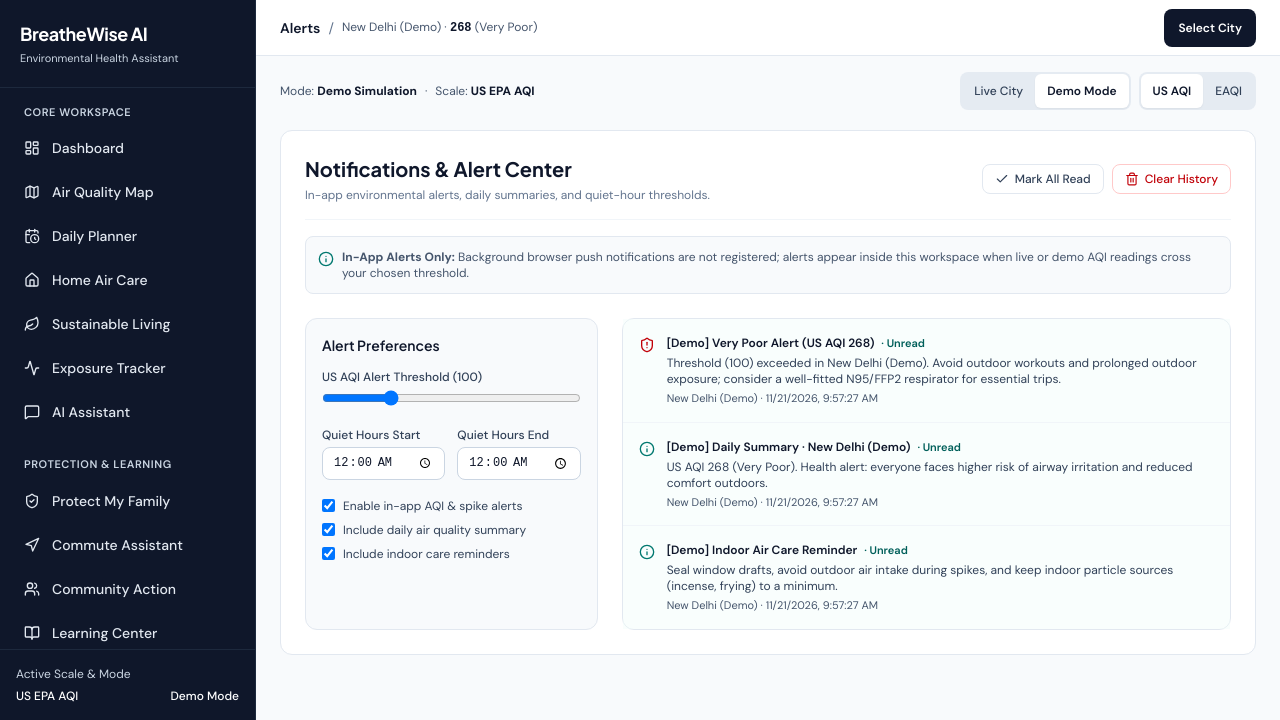
BreatheWise AI Advanced Workflows: Live Gemini, Loading/Error Recovery, Notifications & Export › handles Notifications quiet hours, severe override (AQI > 200), Mark All Read, and Clear History
This screenshot has width=1280, height=720.
Earlier steps of the test are not shown.
Expected: the heading "Notifications & Alert Center" is shown, [305,156,572,181]
Expected: the text "· Unread" next to "[Demo] Very Poor Alert (US AQI 268)" is shown, [881,336,925,350]
Click the button "Mark All Read": (1043, 179) [982,164,1104,194]
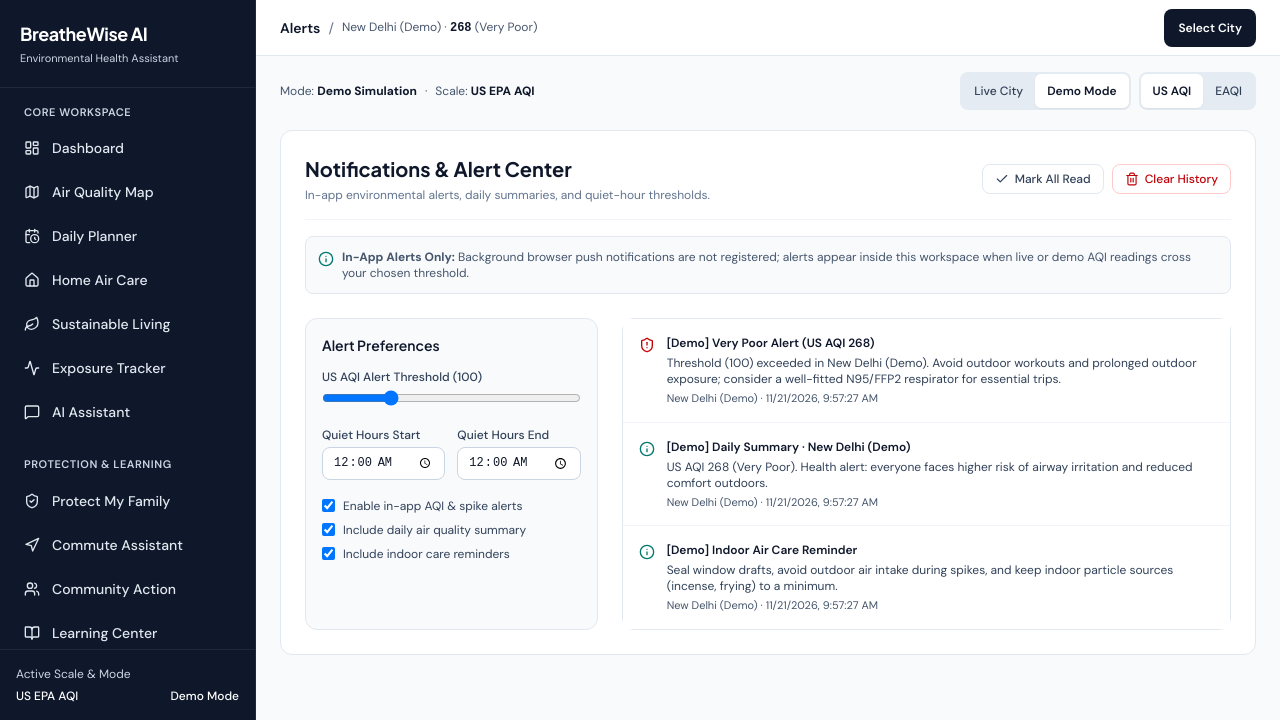
Expected: the text "· Unread" is gone
Click the button "Clear History": (1171, 179) [1112,164,1231,194]
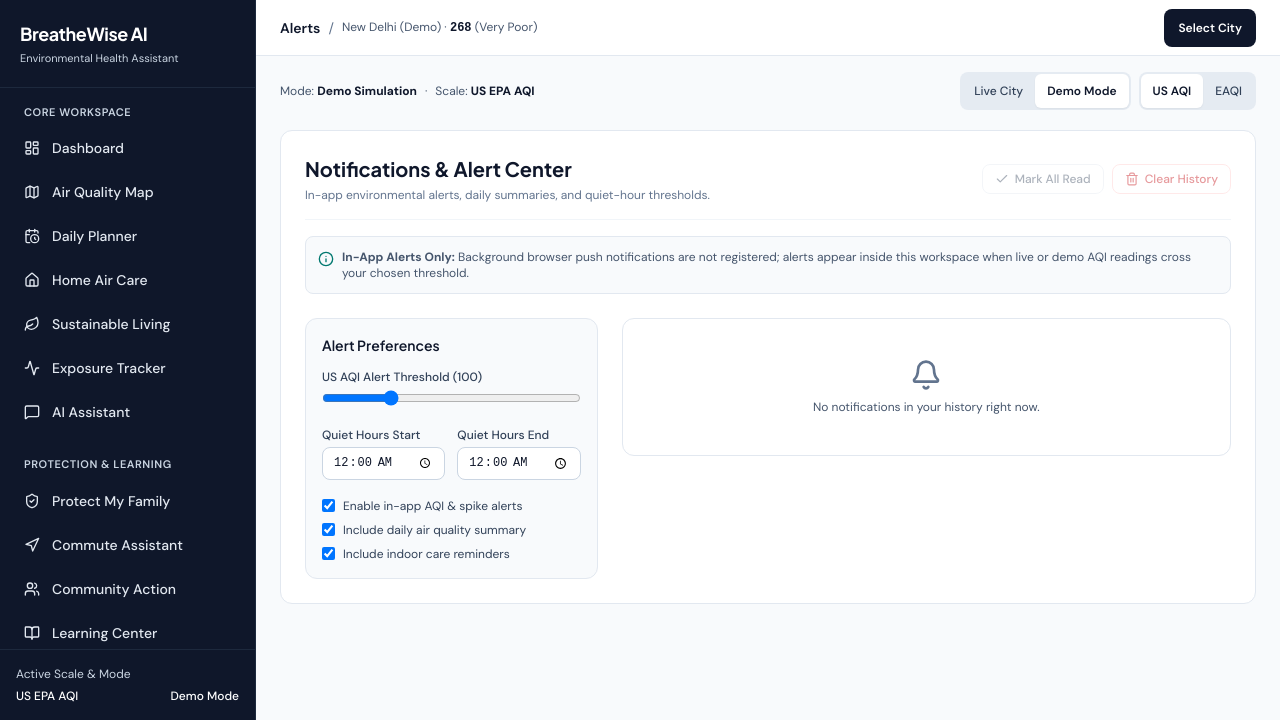
Expected: the text "No notifications in your history right now." is shown, [622,318,1231,456]
